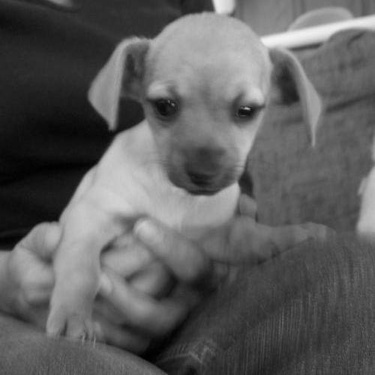dog: (16, 5, 345, 350)
